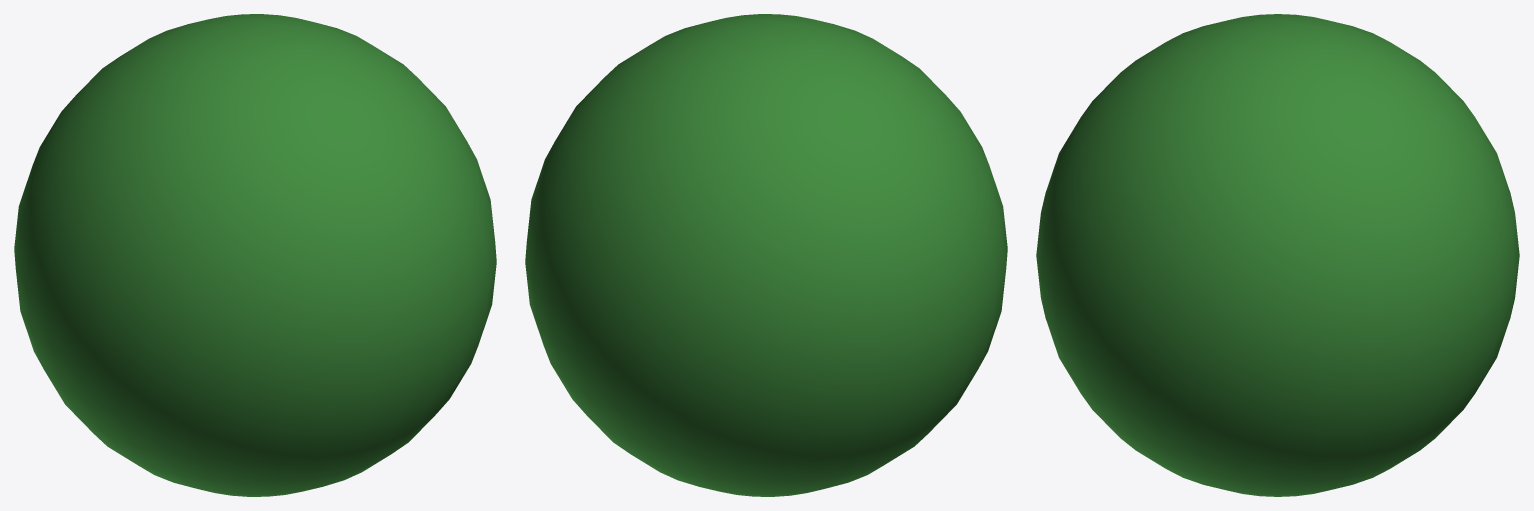
The model's file is skybox twitch2.fbx.
The picture shows the model from 3 angles, left to right: view 1: azimuth 30°, elevation 25°; view 2: azimuth 150°, elevation 25°; view 3: azimuth 270°, elevation 25°; orthographic projection.
Parts seen in each view (by area): view 1: Sphere; view 2: Sphere; view 3: Sphere.
Part boxes in pixels (x1,y1,x2,y2): Sphere: (14,14,496,496); Sphere: (525,14,1007,496); Sphere: (1036,14,1519,496).
Bounding box in the file's own units: 979 × 979 × 979.
